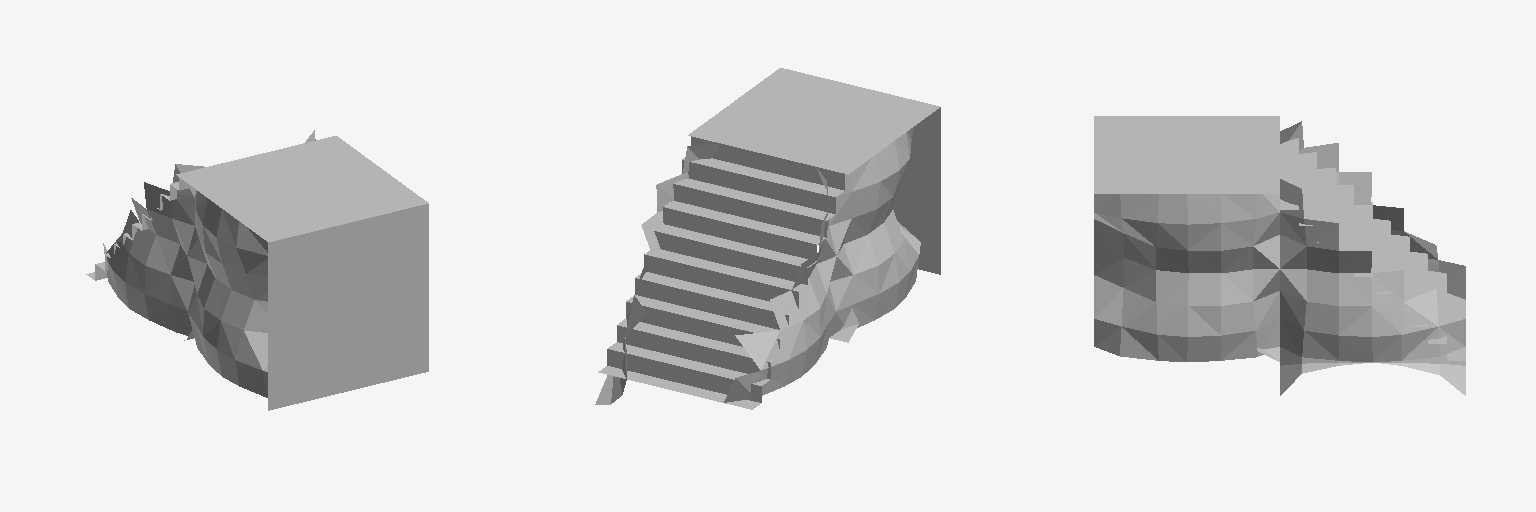
Rendered from cave_stairs_up.obj.
The picture shows the model from 3 angles: view 1: azimuth 30°, elevation 25°; view 2: azimuth 150°, elevation 25°; view 3: azimuth 270°, elevation 25°; orthographic projection.
Visible parts, largest first — view 1: Plane.005_Plane.002, Plane.006_Plane.003, Cube.001; view 2: Cube.001, Plane.006_Plane.003, Plane.005_Plane.002; view 3: Plane.006_Plane.003, Cube.001.
Part boxes in pixels (left/top/right/bottom): Plane.005_Plane.002: left=268, top=204, right=428, bottom=410; Plane.006_Plane.003: left=103, top=130, right=315, bottom=397; Cube.001: left=86, top=136, right=428, bottom=280; Cube.001: left=598, top=68, right=939, bottom=409; Plane.006_Plane.003: left=595, top=127, right=920, bottom=404; Plane.005_Plane.002: left=818, top=107, right=940, bottom=274; Plane.006_Plane.003: left=1094, top=121, right=1465, bottom=395; Cube.001: left=1094, top=116, right=1465, bottom=360.
Size of the model in its own units: 1.07 by 1.2 by 2.